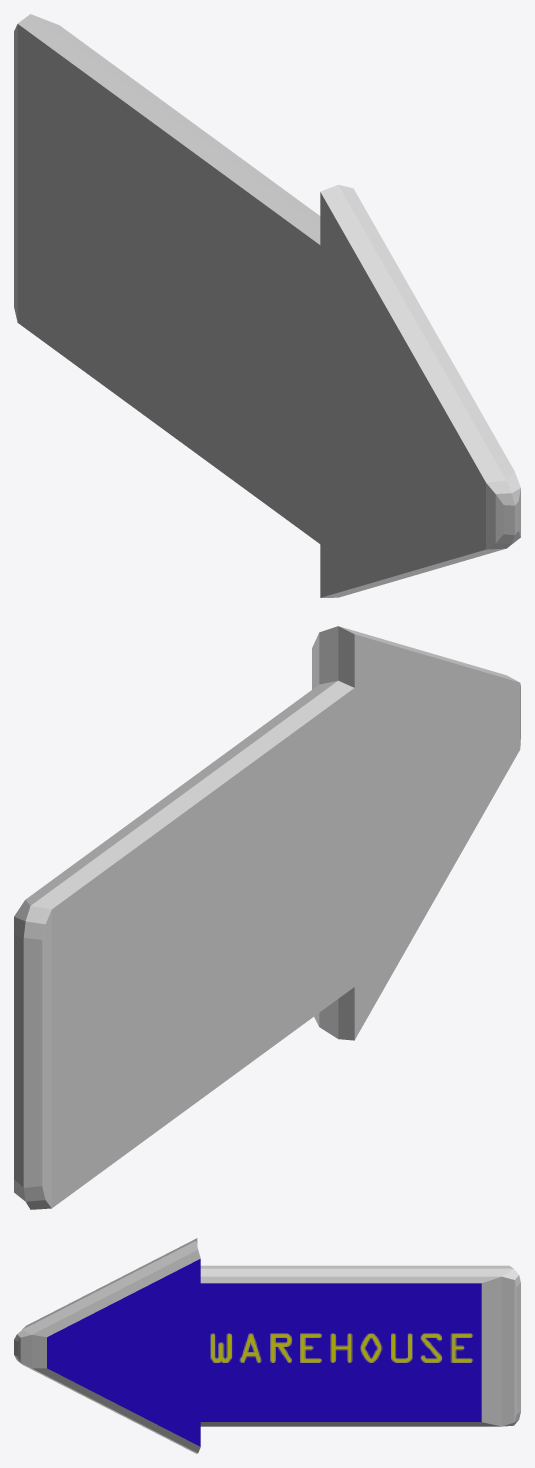
Rendered from señal_almacen_en.fbx.
The picture shows the model from 3 angles, top to bottom: view 1: azimuth 30°, elevation 25°; view 2: azimuth 150°, elevation 25°; view 3: azimuth 270°, elevation 25°; orthographic projection. The views are drawn at different scales.
Parts seen in each view (by area): view 1: Pointer:Mesh; view 2: Pointer:Mesh; view 3: Pointer:Mesh.
Boxes of the visible parts, x1,y1,x2,y2 form: Pointer:Mesh: (14,14,520,597); Pointer:Mesh: (14,626,520,1209); Pointer:Mesh: (14,1238,520,1453).
Bounding box in the file's own units: 0.1567 × 1.59 × 3.42.
Materials: 3 (1 with a texture image).
